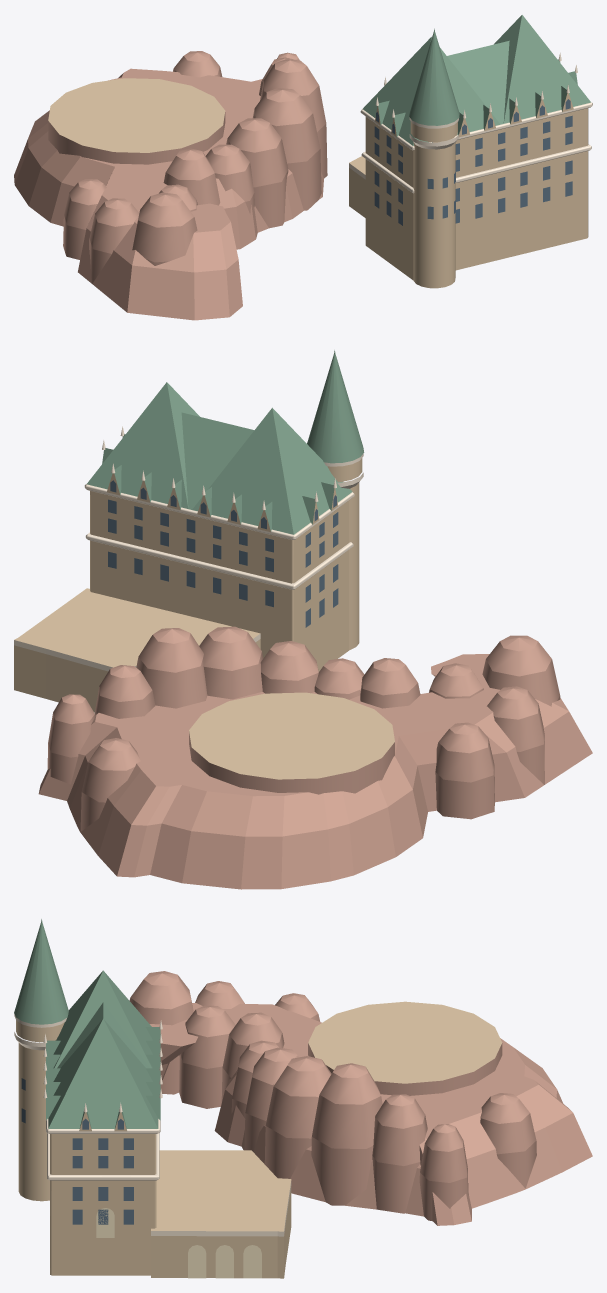
File: wdw-epcot-canada.glb
The picture shows the model from 3 angles, top to bottom: view 1: azimuth 30°, elevation 25°; view 2: azimuth 150°, elevation 25°; view 3: azimuth 270°, elevation 25°; orthographic projection. The views are drawn at different scales.
Parts seen in each view (by area): view 1: Hôtel du Canada; view 2: Hôtel du Canada; view 3: Hôtel du Canada.
Boxes of the visible parts, left/top/right/bottom form: Hôtel du Canada: left=14, top=15, right=592, bottom=320; Hôtel du Canada: left=14, top=350, right=592, bottom=889; Hôtel du Canada: left=14, top=919, right=592, bottom=1278.
Bounding box in the file's own units: 58.2 × 32.6 × 62.6.
